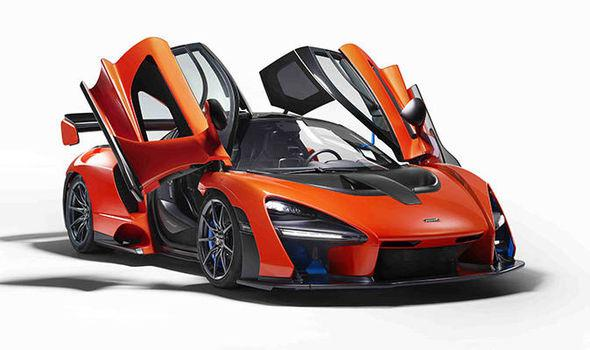car: (44, 32, 536, 304)
